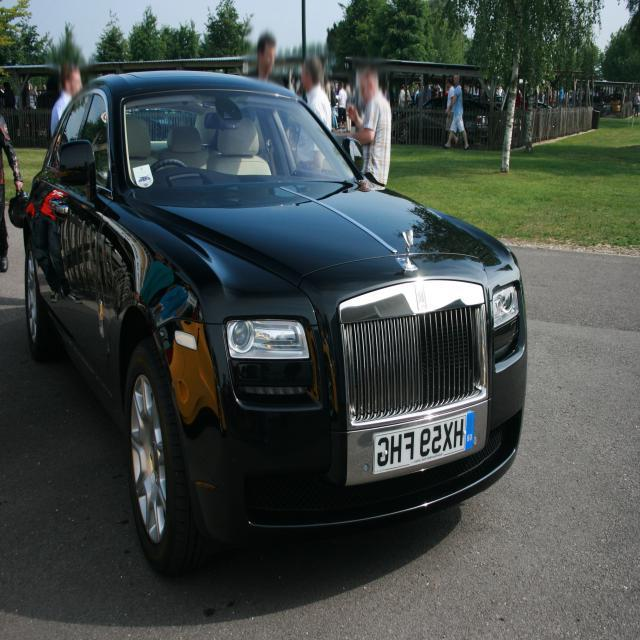Car: (12, 67, 535, 579)
